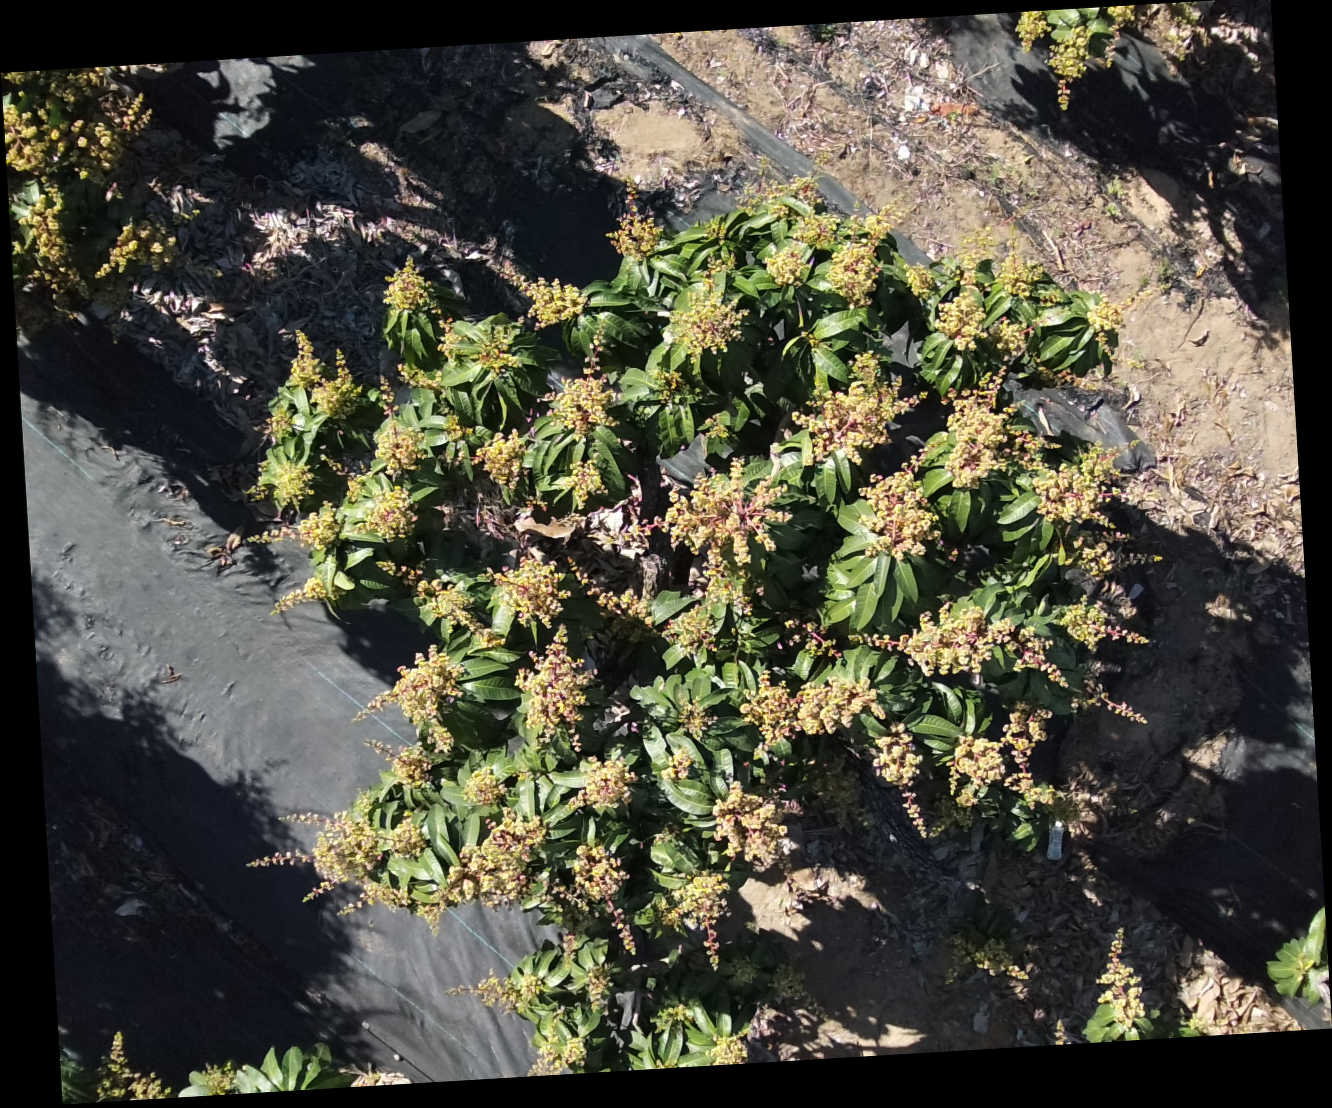flowers: (306, 806, 547, 923), (664, 461, 792, 612), (946, 702, 1075, 850), (866, 602, 1064, 692), (3, 67, 150, 185), (791, 352, 918, 462), (932, 245, 1044, 359), (379, 556, 500, 650), (941, 375, 1039, 487), (792, 207, 899, 307), (739, 670, 883, 744), (543, 843, 632, 957), (514, 627, 595, 751), (858, 463, 938, 560), (10, 186, 79, 296), (488, 254, 585, 328), (662, 870, 729, 969), (287, 328, 360, 419), (547, 342, 615, 437), (1032, 447, 1117, 523), (712, 780, 785, 867), (391, 646, 464, 723), (665, 286, 746, 356), (492, 555, 568, 626), (93, 1029, 168, 1099), (1057, 596, 1146, 649), (247, 502, 340, 552), (1096, 927, 1142, 1028), (93, 220, 175, 275), (1081, 660, 1144, 725), (448, 970, 541, 1013), (1048, 24, 1092, 109), (568, 756, 636, 809), (972, 935, 1027, 999), (364, 736, 430, 787), (871, 722, 920, 785), (606, 203, 662, 260), (474, 429, 525, 489), (987, 311, 1049, 358), (364, 485, 415, 540), (660, 604, 716, 654), (375, 416, 424, 472), (382, 257, 431, 311), (784, 615, 840, 658), (525, 1034, 585, 1073), (996, 249, 1043, 296), (474, 324, 520, 373), (321, 453, 365, 500), (1086, 297, 1125, 351), (270, 576, 327, 612), (564, 459, 605, 506), (271, 461, 313, 506), (764, 245, 809, 285), (461, 765, 504, 805), (397, 360, 443, 395), (678, 699, 714, 738), (1014, 10, 1050, 49), (195, 1060, 236, 1094), (769, 962, 805, 999), (659, 748, 693, 781), (652, 1002, 693, 1028), (586, 963, 611, 1007), (436, 318, 461, 360), (263, 405, 293, 440), (709, 1035, 747, 1063), (905, 263, 934, 297), (350, 1069, 412, 1084), (443, 412, 472, 441), (427, 720, 452, 753), (699, 411, 729, 439), (728, 957, 757, 984), (278, 811, 326, 824), (379, 373, 394, 416), (1291, 651, 1309, 686), (1038, 284, 1064, 305), (122, 63, 167, 73), (0, 71, 32, 84)
